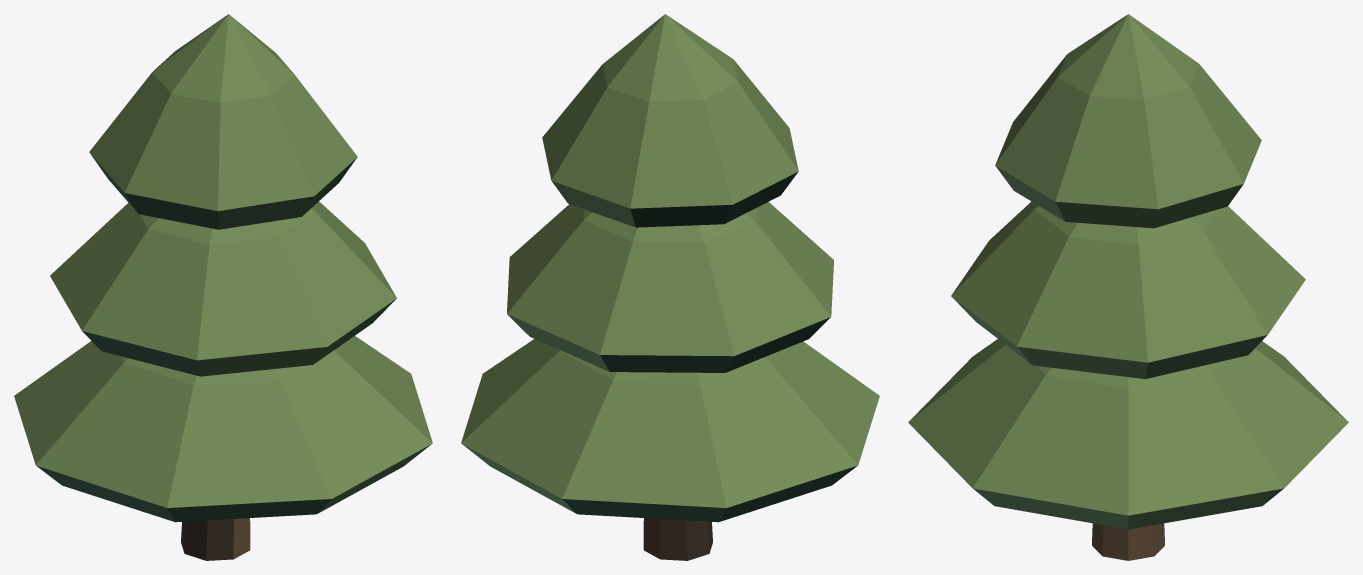
The model's file is TW_TREE_TIERED_WIDE_A_LOD0.glb.
3 renders of one model, left to right at view 1: azimuth 30°, elevation 25°; view 2: azimuth 150°, elevation 25°; view 3: azimuth 270°, elevation 25°, orthographic.
Parts seen in each view (by area): view 1: TW_TREE_TIERED_WIDE_A_LOD0; view 2: TW_TREE_TIERED_WIDE_A_LOD0; view 3: TW_TREE_TIERED_WIDE_A_LOD0.
Part boxes in pixels (x1,y1,x2,y2): TW_TREE_TIERED_WIDE_A_LOD0: [14, 14, 432, 560]; TW_TREE_TIERED_WIDE_A_LOD0: [461, 14, 879, 560]; TW_TREE_TIERED_WIDE_A_LOD0: [908, 14, 1348, 560].
Size of the model in its own units: 2.6 by 3.5 by 2.6.
Materials: 1 (1 with a texture image).
